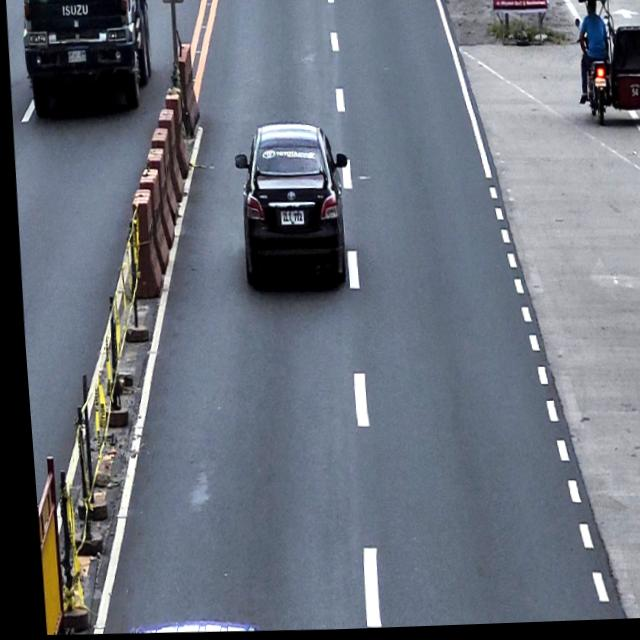Car: (227, 121, 352, 291)
License-Plate: (274, 208, 301, 228), (65, 49, 87, 65), (592, 81, 605, 92)
Tricycle: (570, 0, 640, 131)
Truck: (17, 0, 154, 121)
